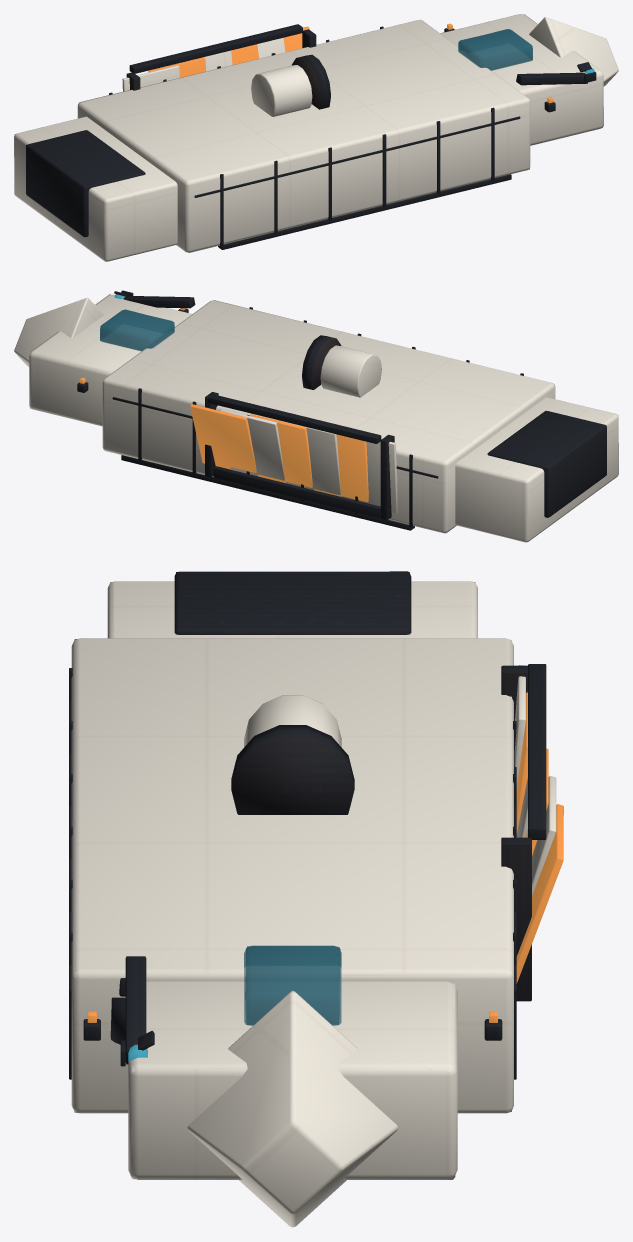
File: repair_tender.glb
The picture shows the model from 3 angles, top to bottom: view 1: azimuth 30°, elevation 25°; view 2: azimuth 150°, elevation 25°; view 3: azimuth 270°, elevation 25°; orthographic projection. The views are drawn at different scales.
Visible parts, largest first — view 1: LOD0_Merged_Material_Hull, LOD0_Merged_Material_Mechanical, LOD0_Merged_Material_Glass, LOD1_Merged_Material_Glass, LOD0_Merged_Material_Warm, LOD2_Merged_Material_Glass, LOD2_Merged_Material_Hull, LOD1_Merged_Material_Hull, LOD1_Merged_Material_Mechanical; view 2: LOD0_Merged_Material_Hull, LOD0_Merged_Material_Mechanical, LOD0_Merged_Material_Warm, LOD0_Merged_Material_Glass, LOD1_Merged_Material_Glass, LOD2_Merged_Material_Glass, LOD2_Merged_Material_Hull, LOD1_Merged_Material_Hull, LOD1_Merged_Material_Mechanical; view 3: LOD0_Merged_Material_Hull, LOD0_Merged_Material_Mechanical, LOD0_Merged_Material_Glass, LOD1_Merged_Material_Glass, LOD0_Merged_Material_Warm, LOD2_Merged_Material_Glass, LOD2_Merged_Material_Hull.
Part boxes in pixels (x1,y1,x2,y2): LOD0_Merged_Material_Hull: (14, 14, 618, 261); LOD0_Merged_Material_Mechanical: (26, 24, 596, 249); LOD0_Merged_Material_Glass: (458, 29, 532, 70); LOD1_Merged_Material_Glass: (458, 29, 532, 70); LOD0_Merged_Material_Warm: (148, 23, 553, 103); LOD2_Merged_Material_Glass: (458, 29, 532, 61); LOD2_Merged_Material_Hull: (14, 14, 618, 261); LOD1_Merged_Material_Hull: (14, 17, 606, 261); LOD1_Merged_Material_Mechanical: (26, 73, 585, 236); LOD0_Merged_Material_Hull: (14, 294, 618, 542); LOD0_Merged_Material_Mechanical: (77, 290, 606, 530); LOD0_Merged_Material_Warm: (79, 308, 368, 502); LOD0_Merged_Material_Glass: (100, 309, 174, 351); LOD1_Merged_Material_Glass: (100, 310, 174, 350); LOD2_Merged_Material_Glass: (100, 309, 174, 341); LOD2_Merged_Material_Hull: (14, 294, 618, 542); LOD1_Merged_Material_Hull: (26, 298, 618, 542); LOD1_Merged_Material_Mechanical: (147, 297, 606, 517); LOD0_Merged_Material_Hull: (71, 581, 556, 1227); LOD0_Merged_Material_Mechanical: (69, 571, 546, 1079); LOD0_Merged_Material_Glass: (244, 945, 341, 1025); LOD1_Merged_Material_Glass: (245, 946, 340, 1024); LOD0_Merged_Material_Warm: (87, 692, 563, 1022); LOD2_Merged_Material_Glass: (246, 946, 339, 1024); LOD2_Merged_Material_Hull: (73, 582, 511, 1214).
Size of what is drawn, in the model's own units: 24.8 by 5.98 by 9.62.
5 materials, 5 textured.
